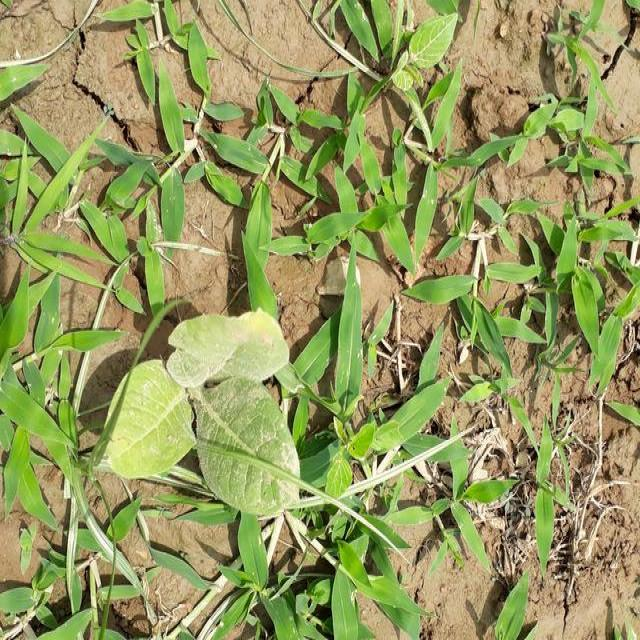crop: (103, 298, 306, 526)
